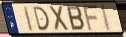B: (66, 5, 86, 32)
D: (32, 6, 51, 32)
F: (82, 4, 100, 32)
I: (101, 3, 113, 33), (23, 5, 34, 33)
X: (48, 4, 71, 32)
